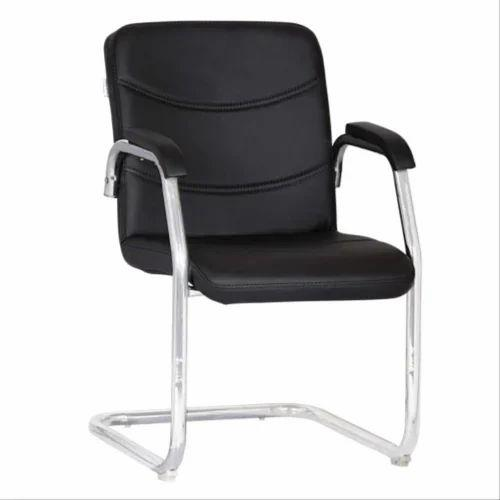chair: (80, 6, 430, 487)
